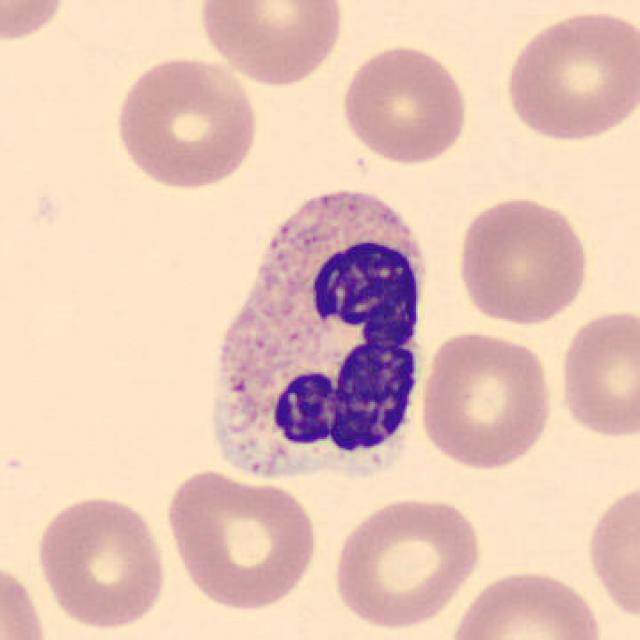Neutrophil: (192, 169, 439, 497)
RBC: (160, 466, 322, 614), (329, 492, 485, 633), (110, 53, 262, 192), (416, 328, 558, 472), (32, 490, 171, 633), (500, 5, 638, 145), (452, 192, 594, 328), (338, 41, 471, 166), (194, 0, 348, 88), (444, 564, 608, 640), (555, 305, 638, 443), (583, 476, 638, 626), (0, 555, 50, 640), (0, 0, 73, 46)
